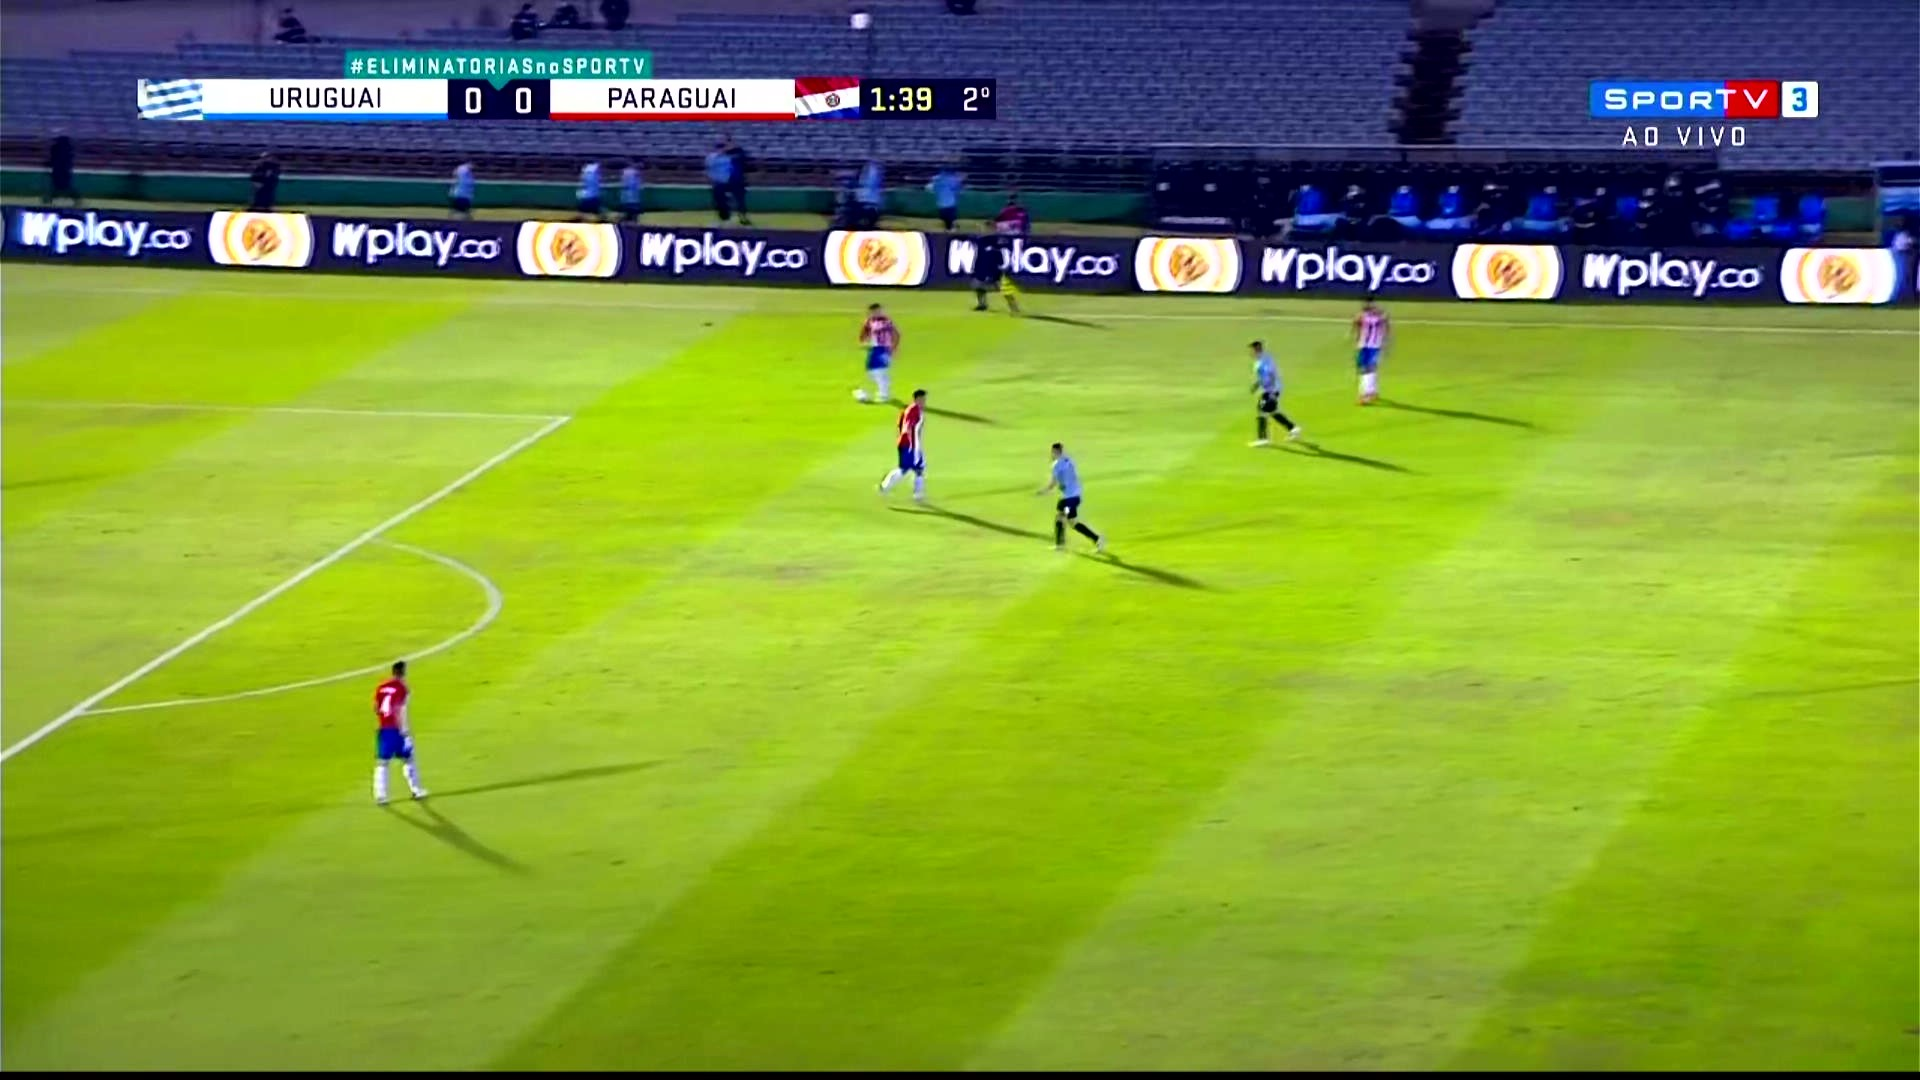SporTV3: (1590, 80, 1815, 115)
